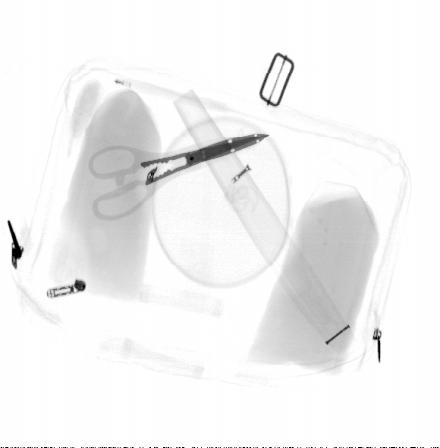Scissors: (89, 133, 269, 223)
